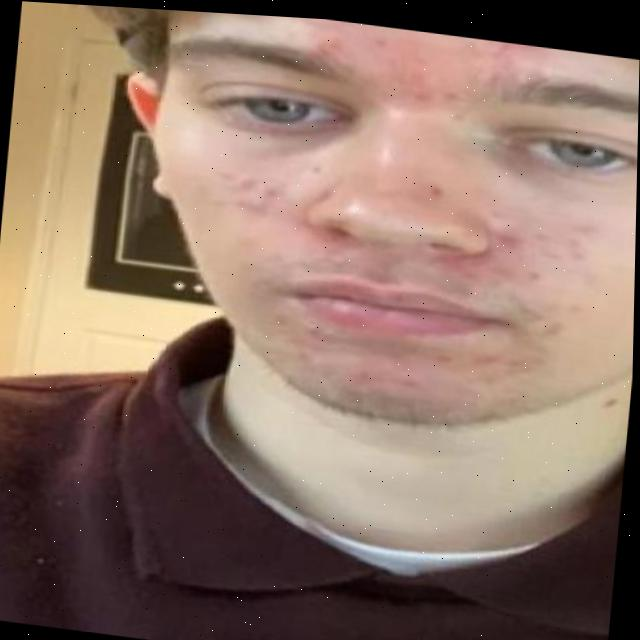Acne: (180, 119, 586, 357), (299, 18, 520, 108)
